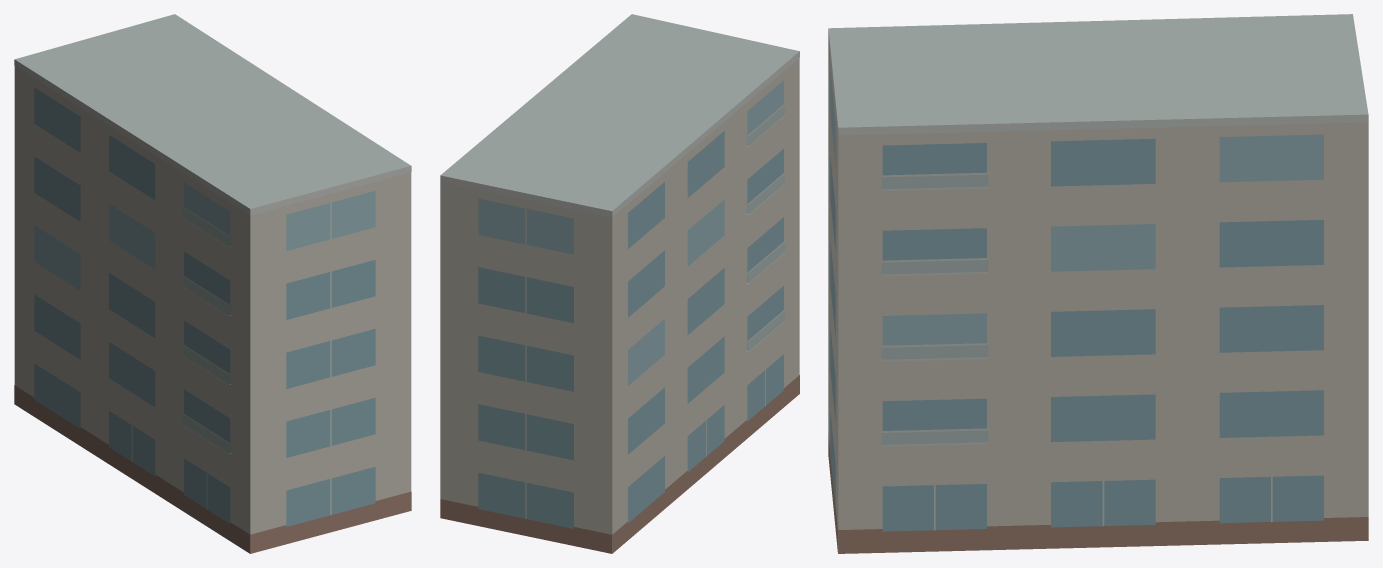
Rendered from survey-upis-32701613.glb.
The picture shows the model from 3 angles, left to right: view 1: azimuth 30°, elevation 25°; view 2: azimuth 150°, elevation 25°; view 3: azimuth 270°, elevation 25°; orthographic projection. The views are drawn at different scales.
Parts seen in each view (by area): view 1: survey-upis-32701613.tmp; view 2: survey-upis-32701613.tmp; view 3: survey-upis-32701613.tmp.
Boxes of the visible parts, box(x1,y1,x2,y2) form: survey-upis-32701613.tmp: box(14, 14, 411, 553); survey-upis-32701613.tmp: box(440, 14, 799, 553); survey-upis-32701613.tmp: box(828, 14, 1368, 553).
Size of the model in its own units: 7.56 by 13.2 by 15.17.
